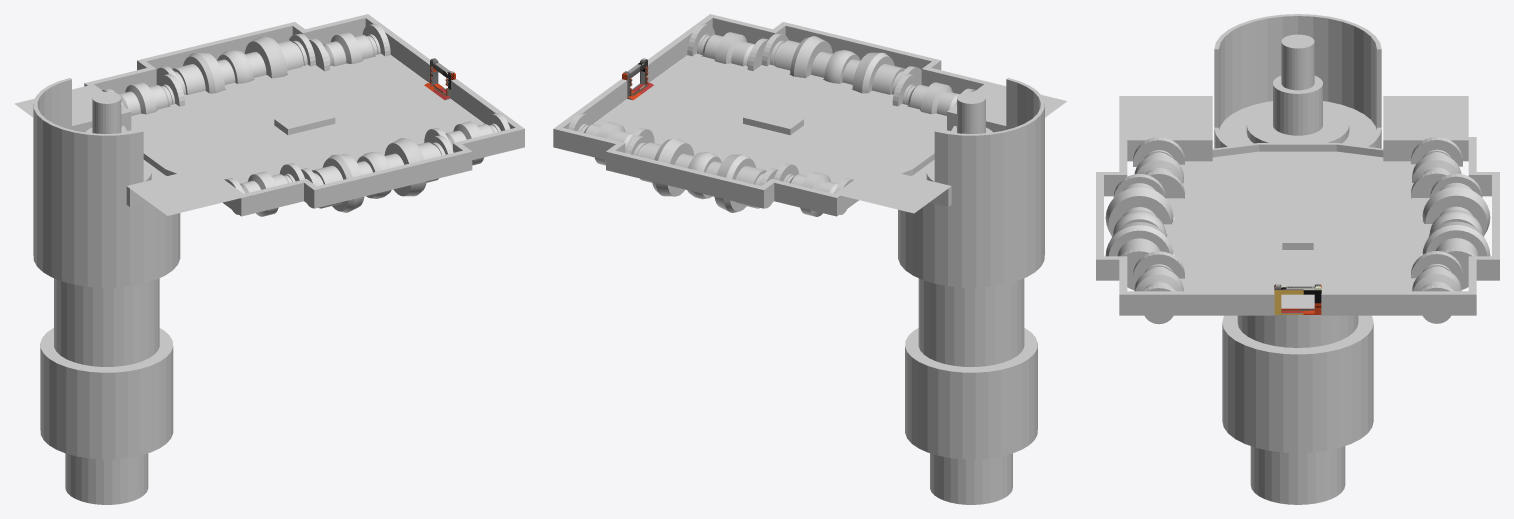
The model's file is PhaseOneWhitebox.fbx.
The picture shows the model from 3 angles, left to right: view 1: azimuth 30°, elevation 25°; view 2: azimuth 150°, elevation 25°; view 3: azimuth 270°, elevation 25°; orthographic projection. The views are drawn at different scales.
Visible parts, largest first — view 1: Cylinder.007, Plane.011, Cube.002, Cylinder.002, Cylinder.009, Plane.002, Plane.009, Cylinder.010, Plane.010, Cylinder.001, Cylinder.008, Cube.007 (+7 smaller); view 2: Cylinder.007, Plane.011, Cube.002, Cylinder.009, Cylinder.002, Plane.004, Plane.007, Cylinder.006, Plane.006, Cylinder.003, Cylinder.008, Plane.002 (+7 smaller); view 3: Cylinder.007, Plane.011, Cube.002, Cylinder.008, Cylinder.009, Cylinder.002, Plane.002, Plane.004, Plane.005, Plane.008, Plane.007, Plane.009 (+11 smaller).
Part boxes in pixels (x1,y1,x2,y2): Cylinder.007: (33, 78, 180, 504); Plane.011: (127, 59, 483, 182); Cube.002: (72, 14, 524, 216); Cylinder.002: (172, 36, 307, 94); Cylinder.009: (307, 138, 445, 212); Plane.002: (130, 170, 240, 215); Plane.009: (156, 33, 323, 104); Cylinder.010: (323, 32, 380, 66); Plane.010: (309, 23, 396, 75); Cylinder.001: (119, 82, 175, 115); Cylinder.008: (85, 91, 127, 133); Cube.007: (274, 107, 335, 135); Cylinder.007: (898, 77, 1044, 504); Plane.011: (595, 59, 950, 182); Cube.002: (553, 14, 1006, 216); Cylinder.009: (770, 36, 905, 94); Cylinder.002: (633, 138, 772, 212); Plane.004: (840, 170, 947, 213); Plane.007: (754, 33, 921, 104); Cylinder.006: (697, 32, 754, 66); Plane.006: (681, 23, 768, 75); Cylinder.003: (902, 82, 959, 115); Cylinder.008: (950, 91, 992, 133); Plane.002: (956, 83, 1067, 122); Cylinder.007: (1214, 14, 1381, 504); Plane.011: (1182, 151, 1413, 308); Cube.002: (1096, 96, 1499, 315); Cylinder.008: (1273, 34, 1322, 135); Cylinder.009: (1105, 183, 1173, 289); Cylinder.002: (1422, 182, 1490, 289); Plane.002: (1119, 96, 1204, 136); Plane.004: (1391, 96, 1468, 136); Plane.005: (1133, 137, 1199, 198); Plane.008: (1396, 136, 1462, 198); Plane.007: (1113, 174, 1183, 277); Plane.009: (1412, 173, 1482, 277).
Bounding box in the file's own units: 104 × 137 × 126.
